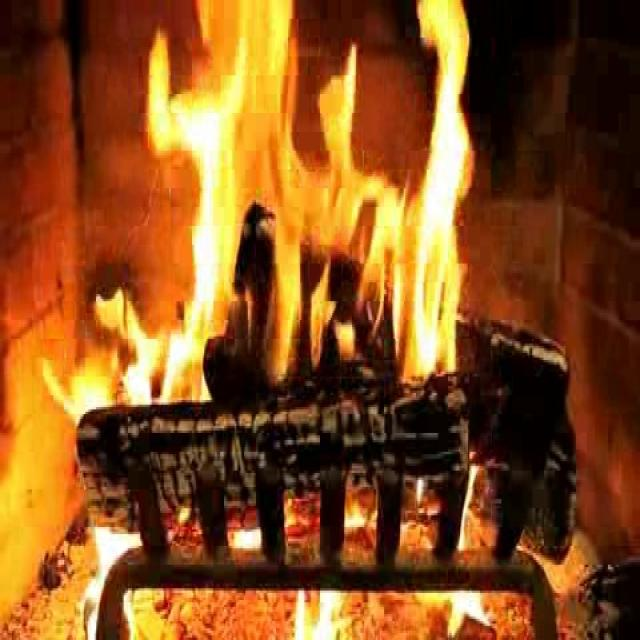fire: (141, 5, 475, 412)
